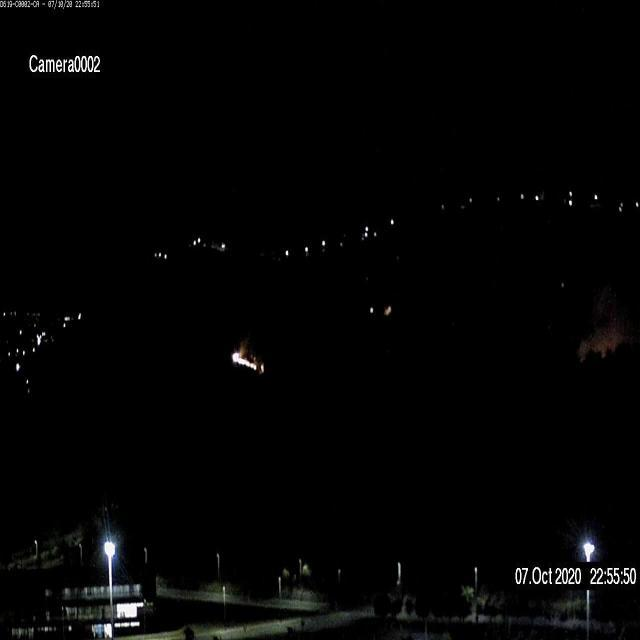Fire: (231, 346, 265, 374)
